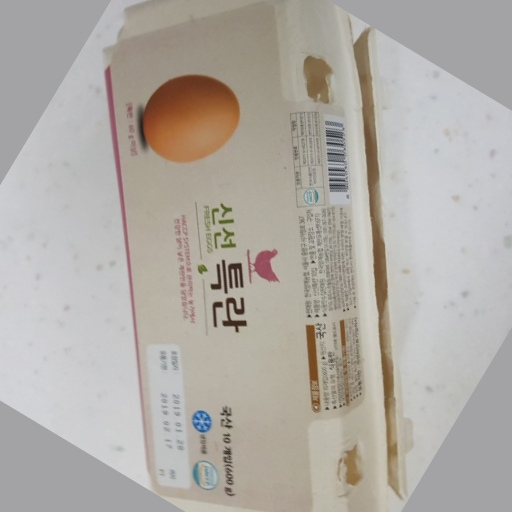Paper_0: (102, 1, 418, 512)
